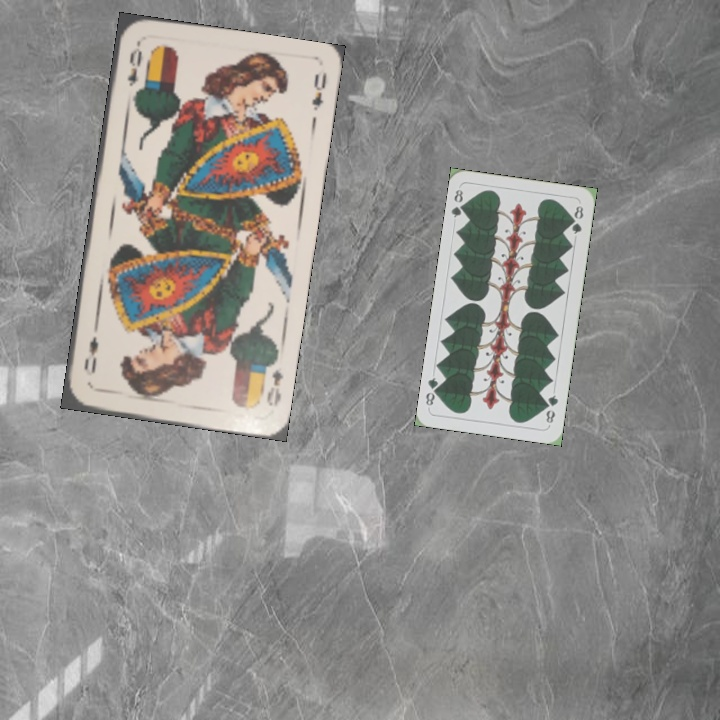EO: (262, 365, 286, 410), (123, 40, 145, 89)
G8: (447, 186, 469, 220), (542, 391, 561, 428)
